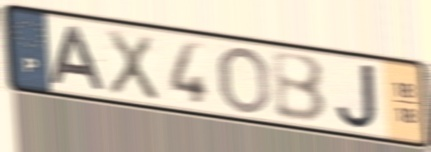4: (166, 37, 212, 108)
A: (48, 25, 109, 94)
B: (268, 50, 329, 127)
J: (333, 61, 381, 131)
O: (217, 44, 273, 116)
X: (104, 26, 162, 104)
